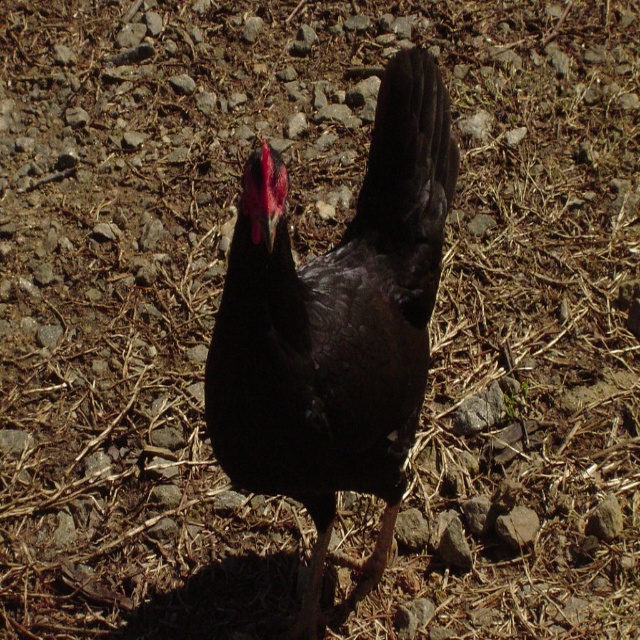Chicken: (216, 58, 460, 636)
